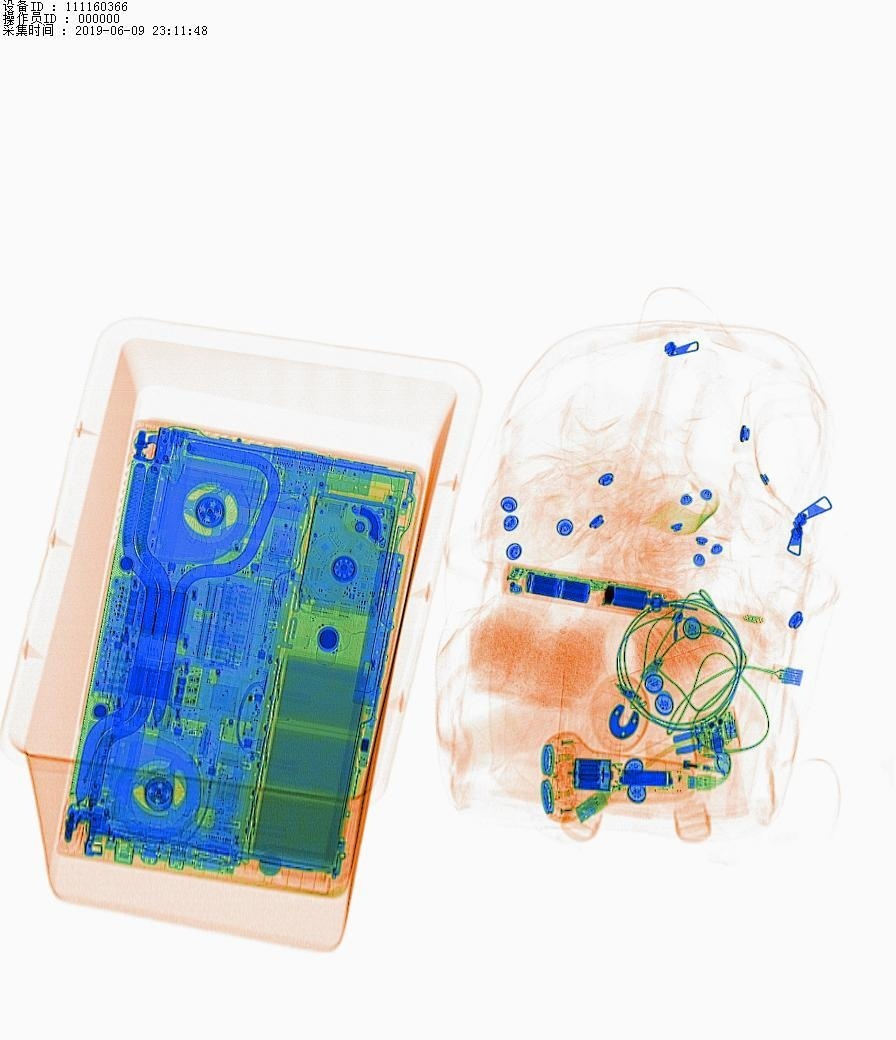NonmetallicFire: (627, 736, 753, 786)
